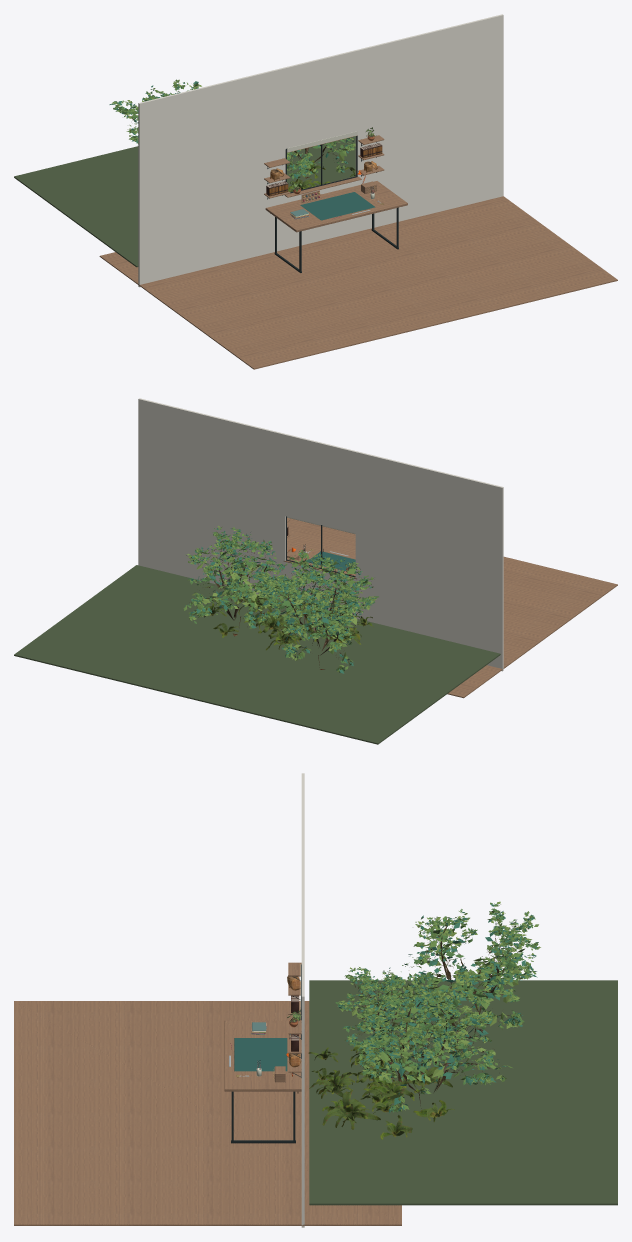
Rendered from artisan_workbench.glb.
The picture shows the model from 3 angles, top to bottom: view 1: azimuth 30°, elevation 25°; view 2: azimuth 150°, elevation 25°; view 3: azimuth 270°, elevation 25°; orthographic projection. The views are drawn at different scales.
Visible parts, largest first — view 1: Studio_ChalkPlaster, Studio_MatteBlackWalnutSecondary, Garden_Earth, Studio_MatteBlackWalnut, CuttingMat_90x60cm, Studio_PowderCoatedSteel, jacaranda_tree_LOD0.002, jacaranda_tree_LOD0.001, jacaranda_tree_LOD0; view 2: Studio_ChalkPlaster, Garden_Earth, Studio_MatteBlackWalnutSecondary, jacaranda_tree_LOD0.002, jacaranda_tree_LOD0.001, jacaranda_tree_LOD0, fern_02.003, Studio_MatteBlackWalnut, fern_02.001; view 3: Studio_MatteBlackWalnutSecondary, Garden_Earth, jacaranda_tree_LOD0.001, jacaranda_tree_LOD0.002, jacaranda_tree_LOD0, Studio_MatteBlackWalnut, fern_02.003, Studio_ChalkPlaster, CuttingMat_90x60cm, fern_02.002, fern_02.001, Studio_PowderCoatedSteel.
Part boxes in pixels (x1=…): Studio_ChalkPlaster: x1=138, y1=14, x2=503, y2=287; Studio_MatteBlackWalnutSecondary: x1=99, y1=135, x2=617, y2=369; Garden_Earth: x1=14, y1=136, x2=355, y2=267; Studio_MatteBlackWalnut: x1=264, y1=135, x2=407, y2=232; CuttingMat_90x60cm: x1=300, y1=192, x2=375, y2=220; Studio_PowderCoatedSteel: x1=267, y1=135, x2=398, y2=272; jacaranda_tree_LOD0.002: x1=109, y1=79, x2=201, y2=143; jacaranda_tree_LOD0.001: x1=287, y1=136, x2=355, y2=178; jacaranda_tree_LOD0: x1=287, y1=150, x2=322, y2=179; Studio_ChalkPlaster: x1=138, y1=398, x2=503, y2=671; Garden_Earth: x1=14, y1=565, x2=500, y2=744; Studio_MatteBlackWalnutSecondary: x1=287, y1=517, x2=617, y2=698; jacaranda_tree_LOD0.002: x1=258, y1=556, x2=378, y2=673; jacaranda_tree_LOD0.001: x1=183, y1=525, x2=287, y2=636; jacaranda_tree_LOD0: x1=258, y1=549, x2=370, y2=633; fern_02.003: x1=195, y1=595, x2=286, y2=637; Studio_MatteBlackWalnut: x1=283, y1=518, x2=356, y2=579; fern_02.001: x1=255, y1=610, x2=353, y2=650; Studio_MatteBlackWalnutSecondary: x1=14, y1=969, x2=401, y2=1225; Garden_Earth: x1=309, y1=980, x2=617, y2=1205; jacaranda_tree_LOD0.001: x1=344, y1=990, x2=512, y2=1112; jacaranda_tree_LOD0.002: x1=369, y1=901, x2=540, y2=1052; jacaranda_tree_LOD0: x1=335, y1=967, x2=451, y2=1079; Studio_MatteBlackWalnut: x1=224, y1=962, x2=301, y2=1093; fern_02.003: x1=322, y1=1081, x2=454, y2=1139; Studio_ChalkPlaster: x1=301, y1=773, x2=304, y2=1227; CuttingMat_90x60cm: x1=234, y1=1038, x2=287, y2=1071; fern_02.002: x1=309, y1=1070, x2=403, y2=1113; fern_02.001: x1=319, y1=1047, x2=452, y2=1106; Studio_PowderCoatedSteel: x1=231, y1=964, x2=301, y2=1143.
Bounding box in the file's own units: 300 × 144 × 342.
34 materials, 12 textured.
